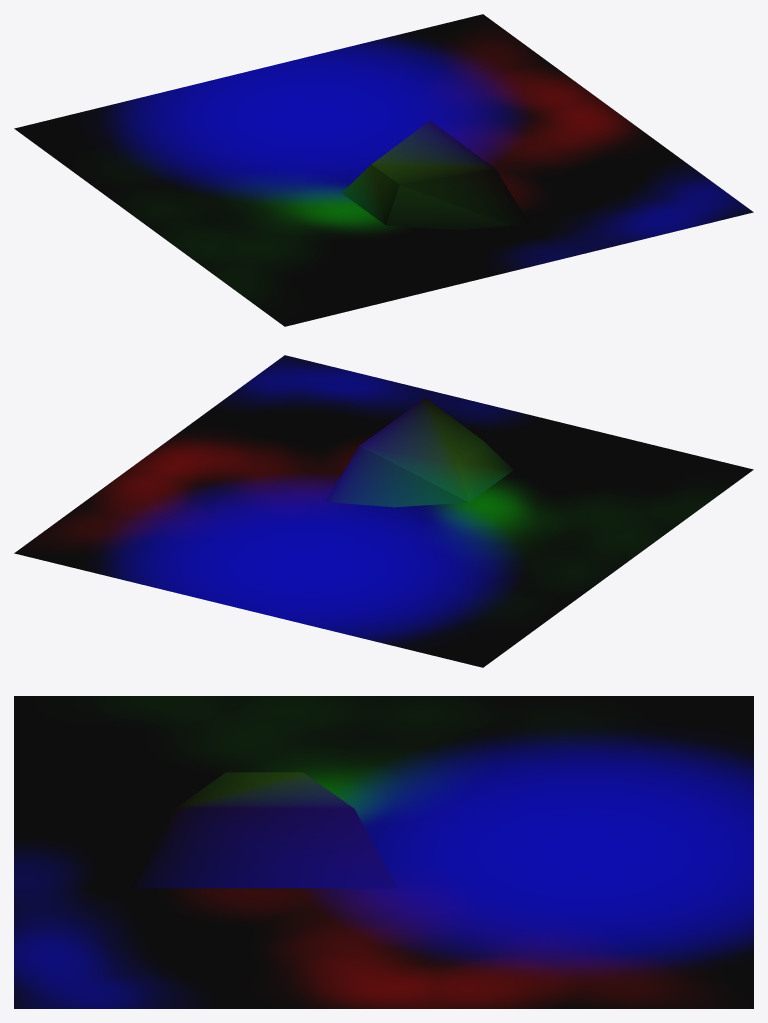
3 renders of one model, top to bottom at view 1: azimuth 30°, elevation 25°; view 2: azimuth 150°, elevation 25°; view 3: azimuth 270°, elevation 25°, orthographic. The views are drawn at different scales.
Parts seen in each view (by area): view 1: file1; view 2: file1; view 3: file1.
Boxes of the visible parts, x1=… form: file1: x1=14, y1=14, x2=753, y2=326; file1: x1=14, y1=355, x2=753, y2=667; file1: x1=14, y1=696, x2=753, y2=1008.
Bounding box in the file's own units: 10 × 1.18 × 10.
